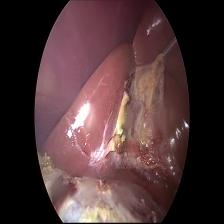Grasper: (163, 35, 180, 64)
